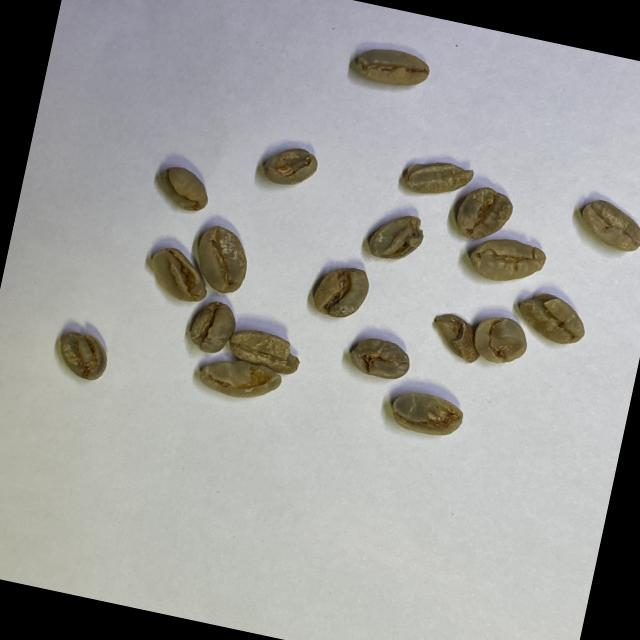bad: (508, 284, 594, 352), (186, 219, 258, 300), (191, 349, 287, 409), (463, 228, 550, 292), (140, 240, 216, 308), (304, 256, 376, 326), (349, 38, 436, 95), (384, 385, 468, 444), (449, 179, 518, 249), (569, 192, 640, 259), (222, 322, 306, 377), (398, 150, 478, 207), (464, 308, 534, 372), (362, 205, 431, 269), (148, 159, 216, 217), (344, 330, 415, 385), (51, 326, 116, 386), (256, 138, 324, 195), (422, 308, 488, 366), (184, 295, 242, 358)
